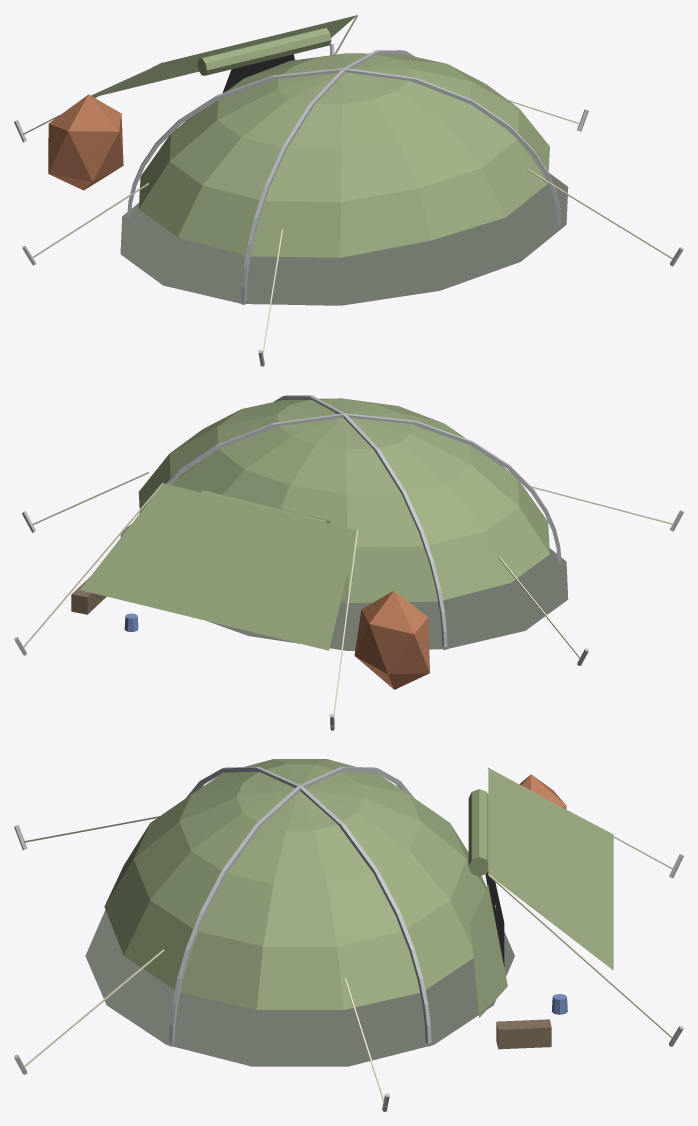
Rendered from tent.glb.
3 views of the same model, one above another, from view 1: azimuth 30°, elevation 25°; view 2: azimuth 150°, elevation 25°; view 3: azimuth 270°, elevation 25° (orthographic). The views are drawn at different scales.
Parts seen in each view (by area): view 1: tent_body, tent_floor, tent_pack, tent_pole2, tent_roll, tent_awning, tent_pole1, tent_door; view 2: tent_body, tent_awning, tent_floor, tent_pack, tent_pole1, tent_pole2, tent_boot.001; view 3: tent_body, tent_floor, tent_awning, tent_flap, tent_pole1, tent_pole2, tent_roll, tent_boot.001, tent_door, tent_guy.001, tent_pack.
Boxes of the visible parts, <box> form: tent_body: <box>138,53,549,257</box>; tent_floor: <box>120,173,568,305</box>; tent_pack: <box>48,94,123,190</box>; tent_pole2: <box>127,68,561,224</box>; tent_roll: <box>197,28,331,75</box>; tent_awning: <box>91,15,356,97</box>; tent_pole1: <box>241,50,414,304</box>; tent_door: <box>222,54,294,92</box>; tent_body: <box>138,398,549,602</box>; tent_awning: <box>80,483,356,650</box>; tent_floor: <box>120,524,568,650</box>; tent_pack: <box>354,591,429,689</box>; tent_pole1: <box>166,413,561,563</box>; tent_pole2: <box>274,395,447,650</box>; tent_boot.001: <box>71,577,106,614</box>; tent_body: <box>104,759,495,1009</box>; tent_floor: <box>85,910,514,1066</box>; tent_awning: <box>488,769,613,970</box>; tent_flap: <box>470,885,507,1017</box>; tent_pole1: <box>186,766,431,1046</box>; tent_pole2: <box>168,766,413,1046</box>; tent_roll: <box>468,789,488,876</box>; tent_boot.001: <box>496,1019,551,1049</box>; tent_door: <box>485,871,504,966</box>; tent_guy.001: <box>488,874,676,1041</box>; tent_pack: <box>519,774,566,808</box>.
Size of the model in its own units: 4.09 by 1.11 by 3.74.
